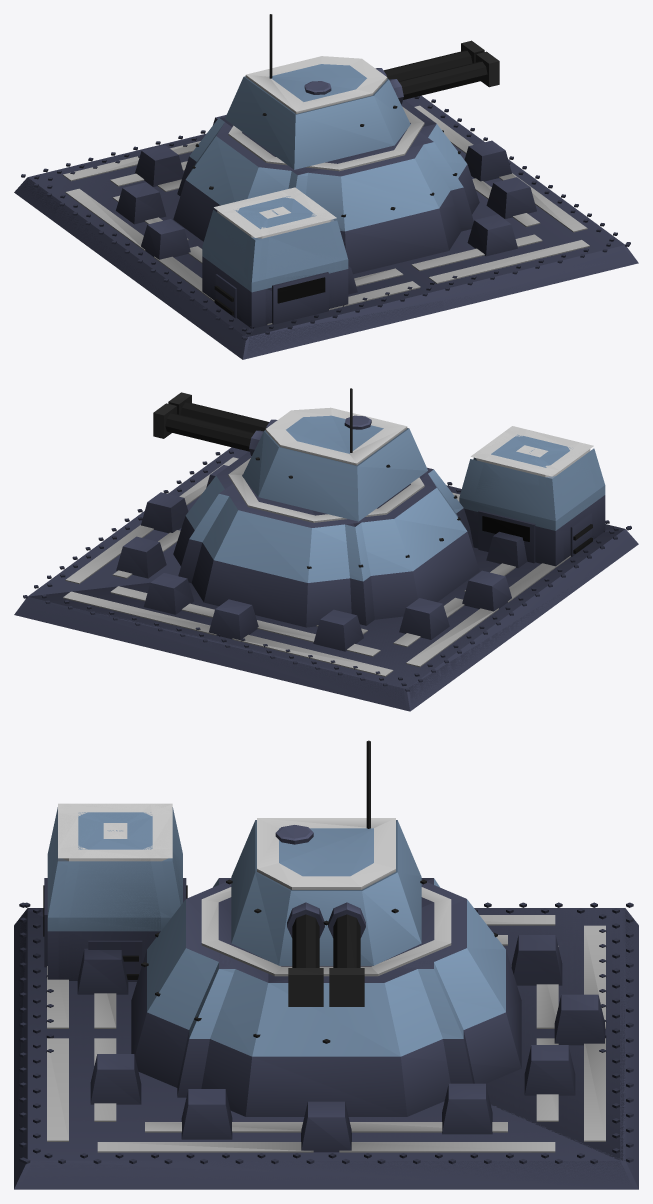
File: veyran_advanced_defences.glb
The picture shows the model from 3 angles, top to bottom: view 1: azimuth 30°, elevation 25°; view 2: azimuth 150°, elevation 25°; view 3: azimuth 270°, elevation 25°; orthographic projection. The views are drawn at different scales.
Visible parts, largest first — view 1: body (×3), turret, barrel; view 2: body (×3), turret, barrel; view 3: body (×3), turret, barrel.
Part boxes in pixels (x1,y1,x2,y2): body (×3): [14, 95, 638, 359]; turret: [225, 14, 410, 169]; barrel: [375, 40, 499, 104]; body (×3): [14, 426, 638, 711]; turret: [242, 388, 427, 521]; barrel: [153, 392, 277, 455]; body (×3): [14, 803, 638, 1189]; turret: [226, 740, 426, 965]; barrel: [287, 902, 365, 1006].
Bounding box in the file's own units: 7.4 × 3.78 × 7.4.
